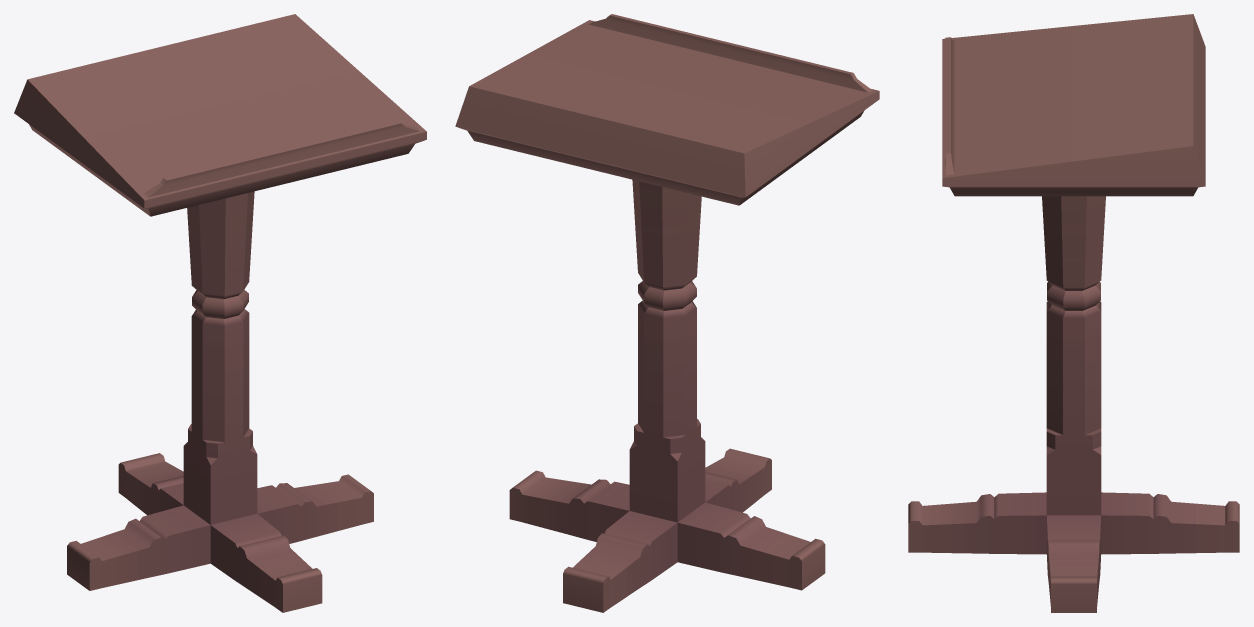
File: Lectern.fbx
The picture shows the model from 3 angles, left to right: view 1: azimuth 30°, elevation 25°; view 2: azimuth 150°, elevation 25°; view 3: azimuth 270°, elevation 25°; orthographic projection. The views are drawn at different scales.
Visible parts, largest first — view 1: Lectern_Adjusted; view 2: Lectern_Adjusted; view 3: Lectern_Adjusted.
Boxes of the visible parts, bbox=[...] form: Lectern_Adjusted: bbox=[14, 14, 426, 612]; Lectern_Adjusted: bbox=[455, 14, 879, 612]; Lectern_Adjusted: bbox=[908, 14, 1239, 612].
Size of the model in its own units: 60.99 by 93.92 by 60.99.
